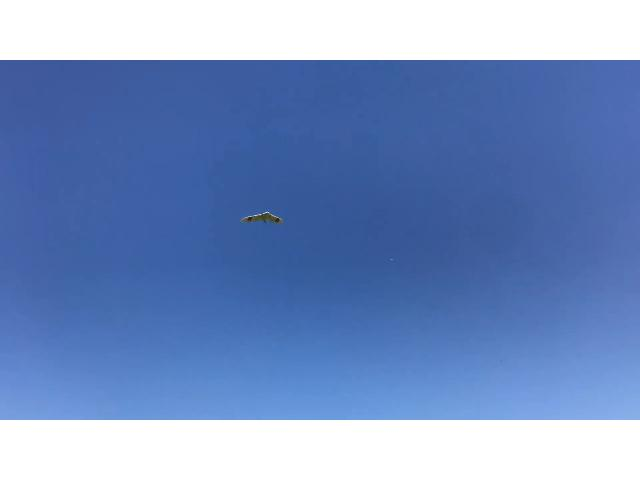Anti-Drone: (238, 202, 290, 234)
